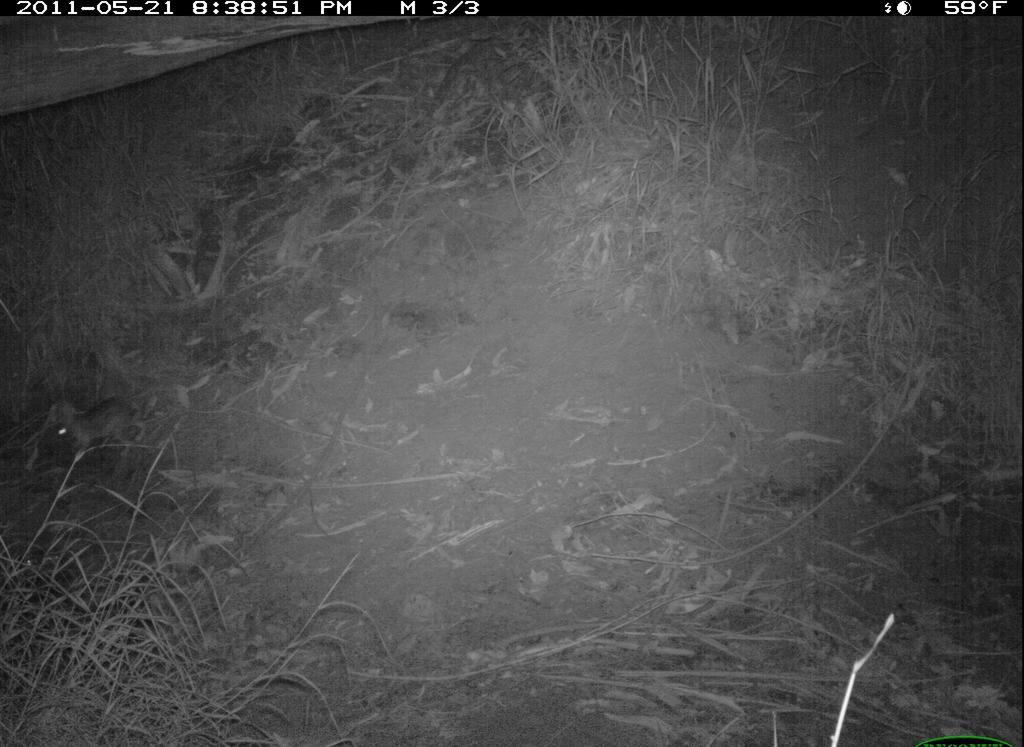rabbit: (29, 377, 157, 488)
